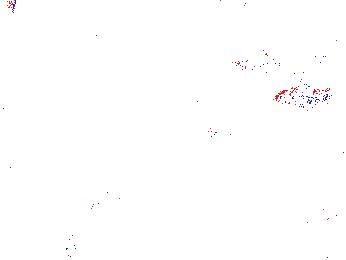glassfish: (188, 116, 294, 160), (68, 179, 133, 248)
red belly glassfish: (276, 87, 328, 108), (230, 52, 268, 70), (243, 61, 278, 77), (309, 49, 343, 63)
redtail glassfish: (203, 1, 293, 16)
